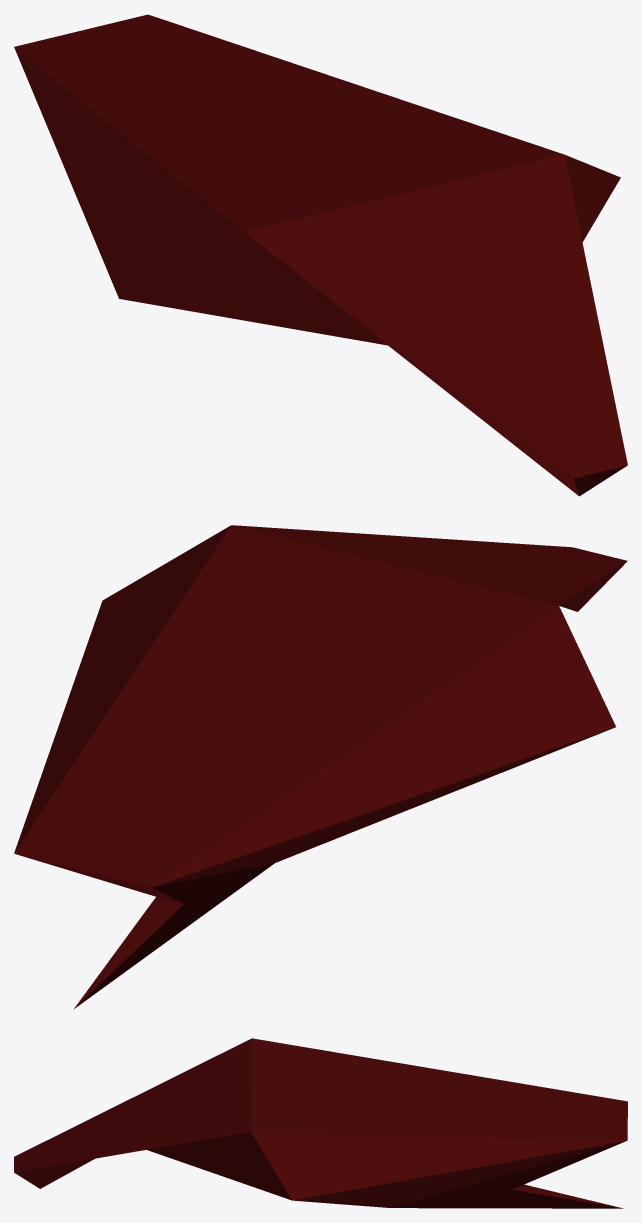
Rendered from Enemy_Ship.glb.
The picture shows the model from 3 angles, top to bottom: view 1: azimuth 30°, elevation 25°; view 2: azimuth 150°, elevation 25°; view 3: azimuth 270°, elevation 25°; orthographic projection. The views are drawn at different scales.
Visible parts, largest first — view 1: Enemy Space Fighter; view 2: Enemy Space Fighter; view 3: Enemy Space Fighter.
Boxes of the visible parts, box(x1,y1,x2,y2) form: Enemy Space Fighter: box(14, 14, 627, 496); Enemy Space Fighter: box(14, 525, 627, 1009); Enemy Space Fighter: box(14, 1038, 627, 1208).
Size of the model in its own units: 0.2245 by 0.0878 by 0.3975.
